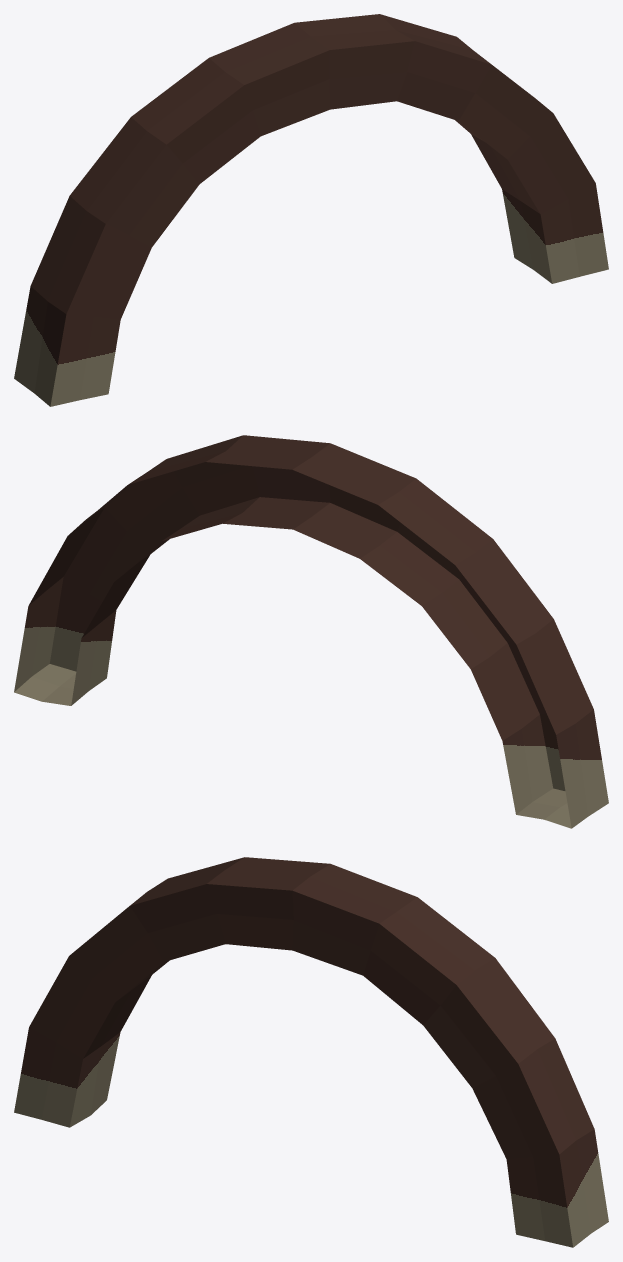
Rendered from Frame.fbx.
3 views of the same model, one above another, from view 1: azimuth 30°, elevation 25°; view 2: azimuth 150°, elevation 25°; view 3: azimuth 330°, elevation 25° (orthographic).
Parts seen in each view (by area): view 1: Frame; view 2: Frame; view 3: Frame.
Part boxes in pixels (x1,y1,x2,y2): Frame: [14, 14, 608, 406]; Frame: [14, 435, 608, 828]; Frame: [14, 857, 608, 1247].
Size of the model in its own units: 55.37 by 27.63 by 6.65.
Materials: 1 (1 with a texture image).
